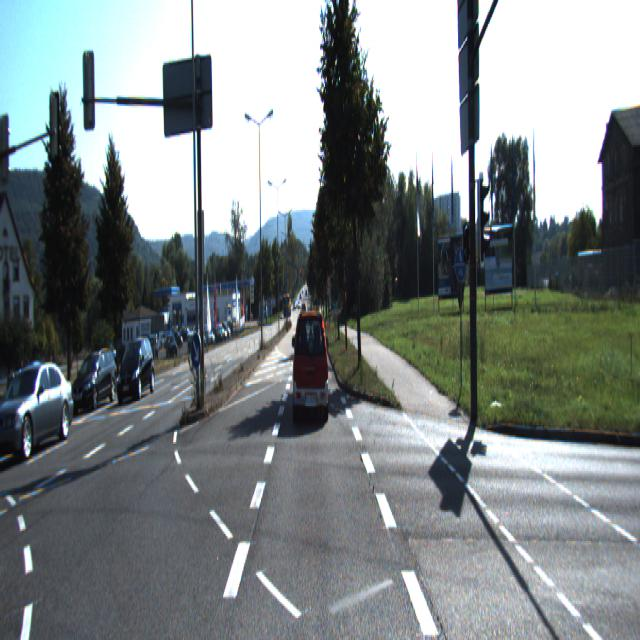Car: (0, 360, 73, 463), (293, 307, 329, 420), (70, 348, 119, 410), (116, 338, 156, 406)
